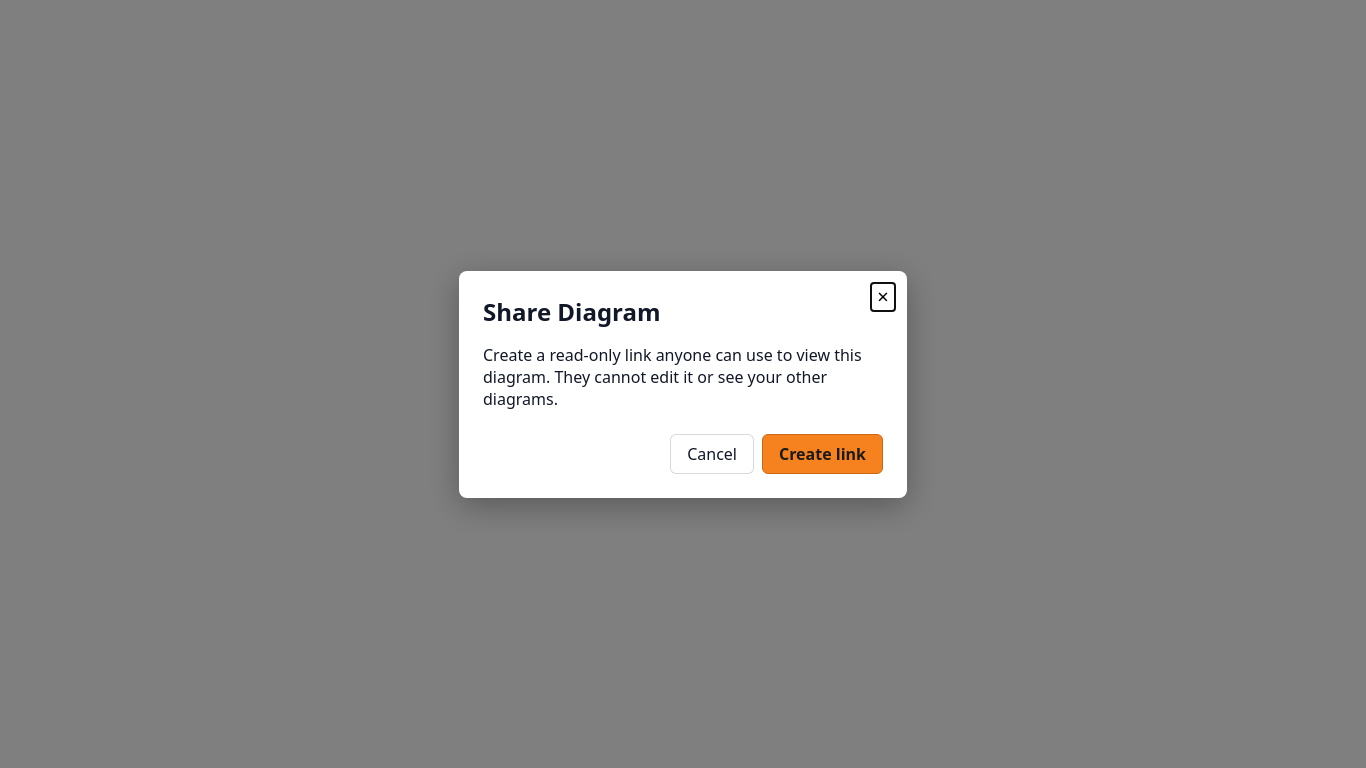
creating a link › reports a refused creation and leaves the control usable
The image size is (1366, 768).
Click the button "Create link". click: point(822, 454)
box: [762,434,883,474]
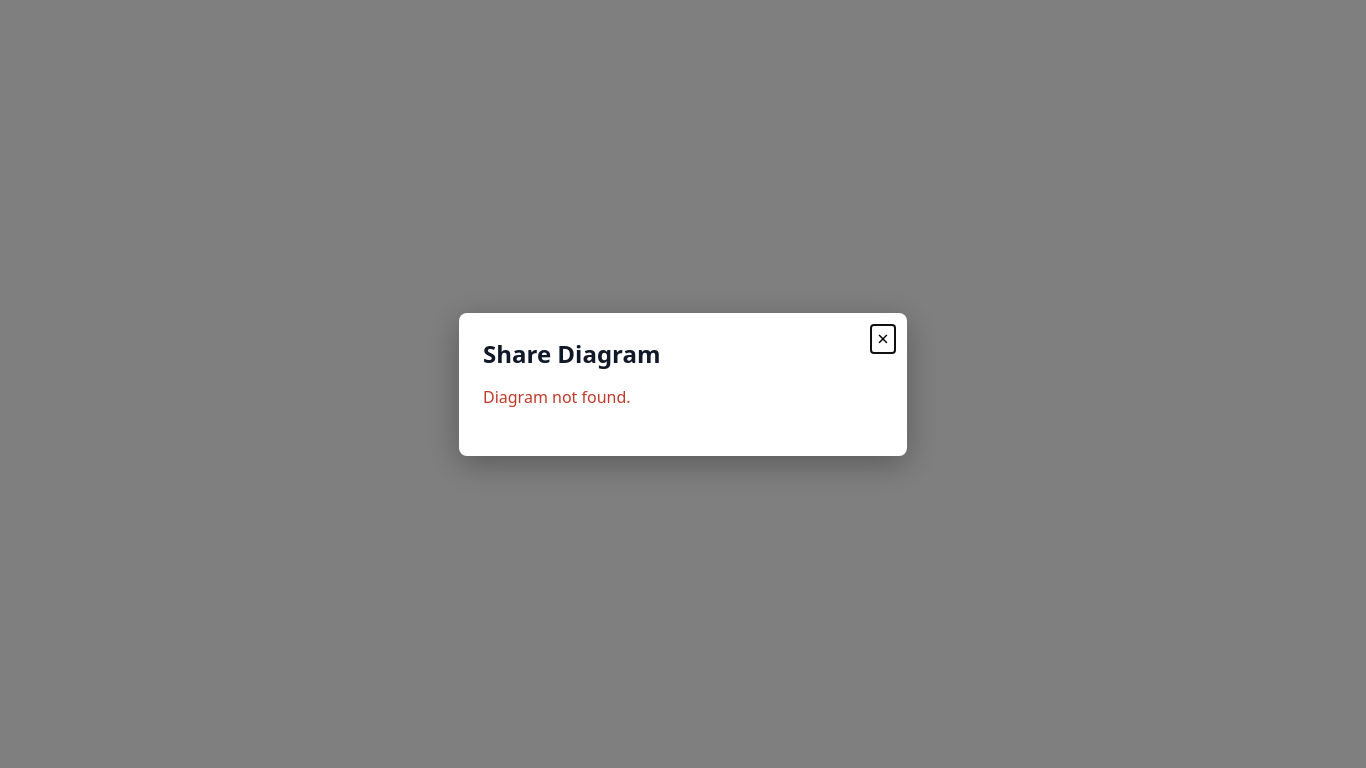
Expected: the message reads "Diagram not found.", [483,386,631,408]
